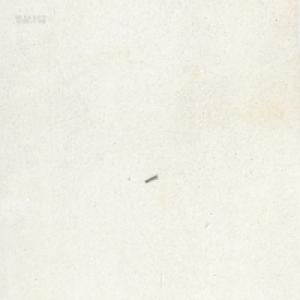Bolt: (143, 173, 156, 183)
